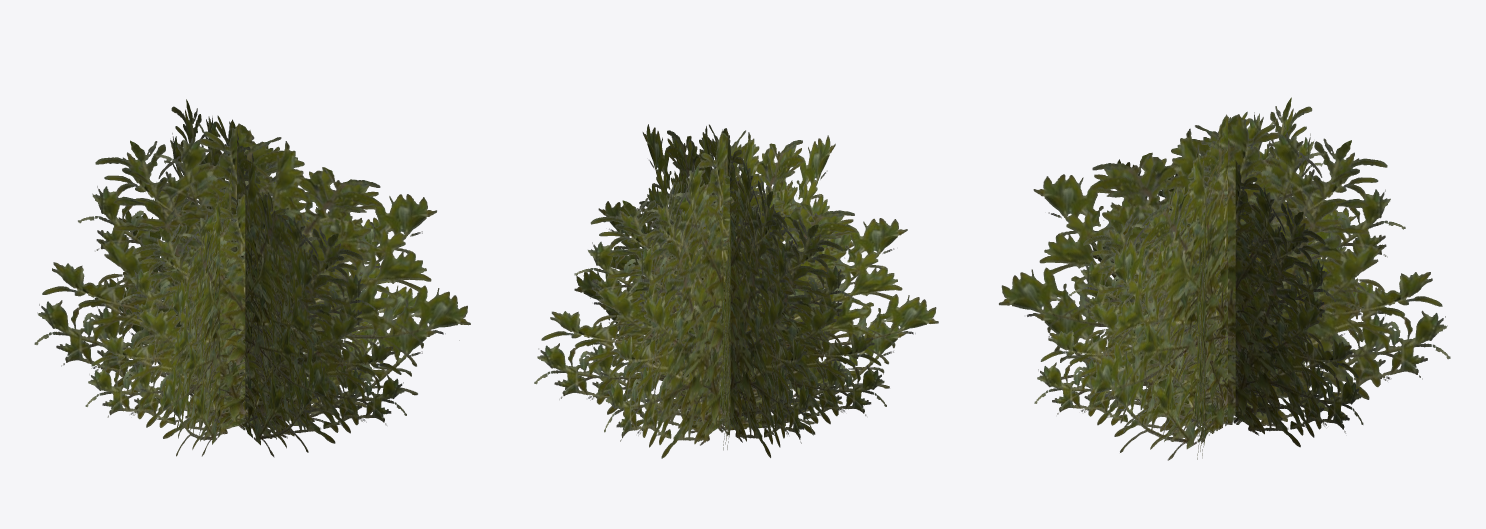
Rendered from Bush01.FBX.
The picture shows the model from 3 angles, left to right: view 1: azimuth 30°, elevation 25°; view 2: azimuth 150°, elevation 25°; view 3: azimuth 270°, elevation 25°; orthographic projection. The views are drawn at different scales.
Visible parts, largest first — view 1: Bush01; view 2: Bush01; view 3: Bush01.
Boxes of the visible parts, left/top/right/bottom form: Bush01: left=34, top=99, right=470, bottom=457; Bush01: left=534, top=124, right=938, bottom=458; Bush01: left=999, top=97, right=1450, bottom=460.
Bounding box in the file's own units: 55.27 × 47.97 × 64.3.
